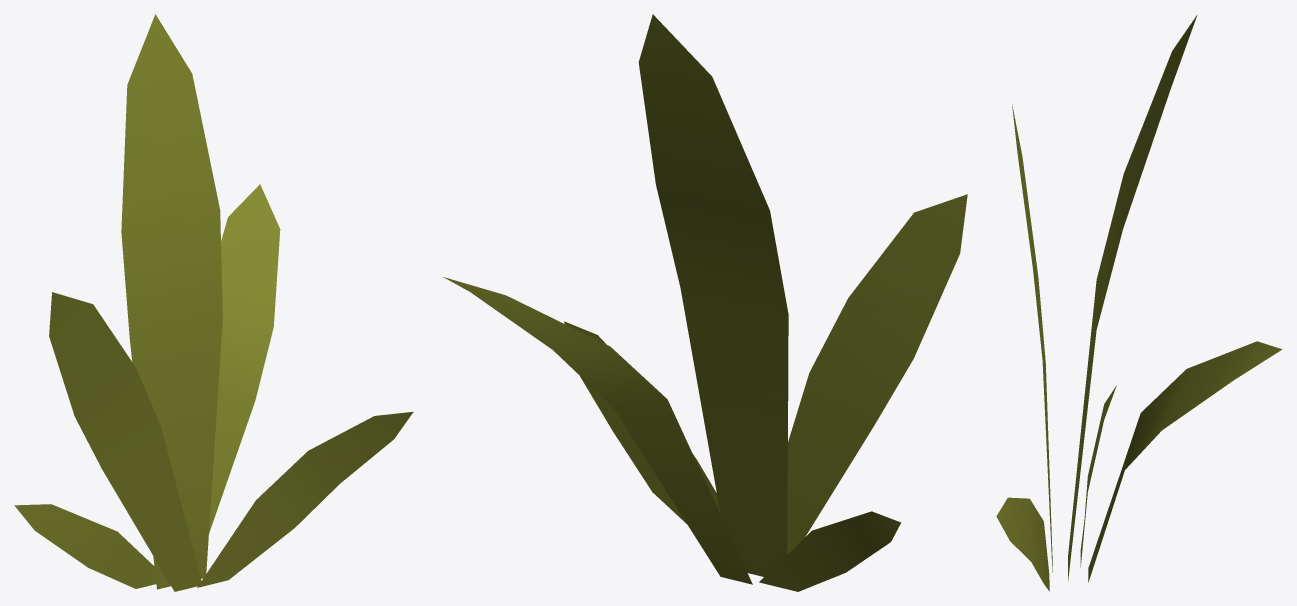
The model's file is SM_Grass_A.fbx.
The picture shows the model from 3 angles, left to right: view 1: azimuth 30°, elevation 25°; view 2: azimuth 150°, elevation 25°; view 3: azimuth 270°, elevation 25°; orthographic projection. The views are drawn at different scales.
Visible parts, largest first — view 1: SM_Grass_A; view 2: SM_Grass_A; view 3: SM_Grass_A.
Part boxes in pixels (left/top/right/bottom): SM_Grass_A: left=14, top=14, right=413, bottom=591; SM_Grass_A: left=443, top=14, right=967, bottom=591; SM_Grass_A: left=996, top=15, right=1281, bottom=591.
Size of the model in its own units: 18.98 by 26.53 by 11.98.
